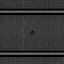dust: (30, 29, 34, 34)
